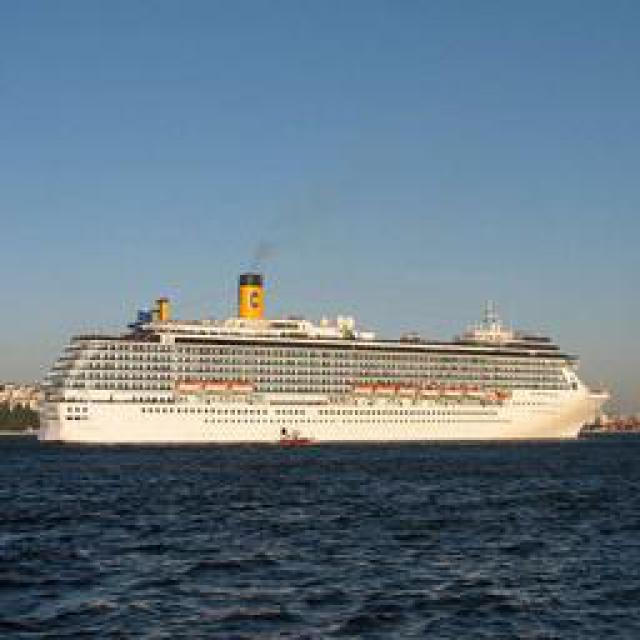Ship: (37, 278, 605, 453)
